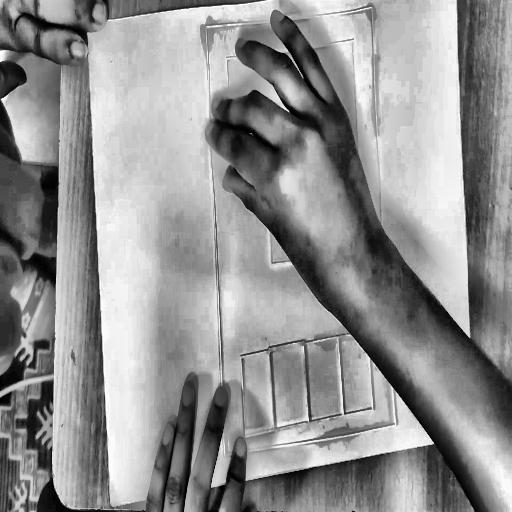bottom_left: (107, 498, 115, 512)
bottom_right: (471, 420, 480, 437)
door: (200, 0, 402, 465)
top_left: (84, 19, 91, 33)
